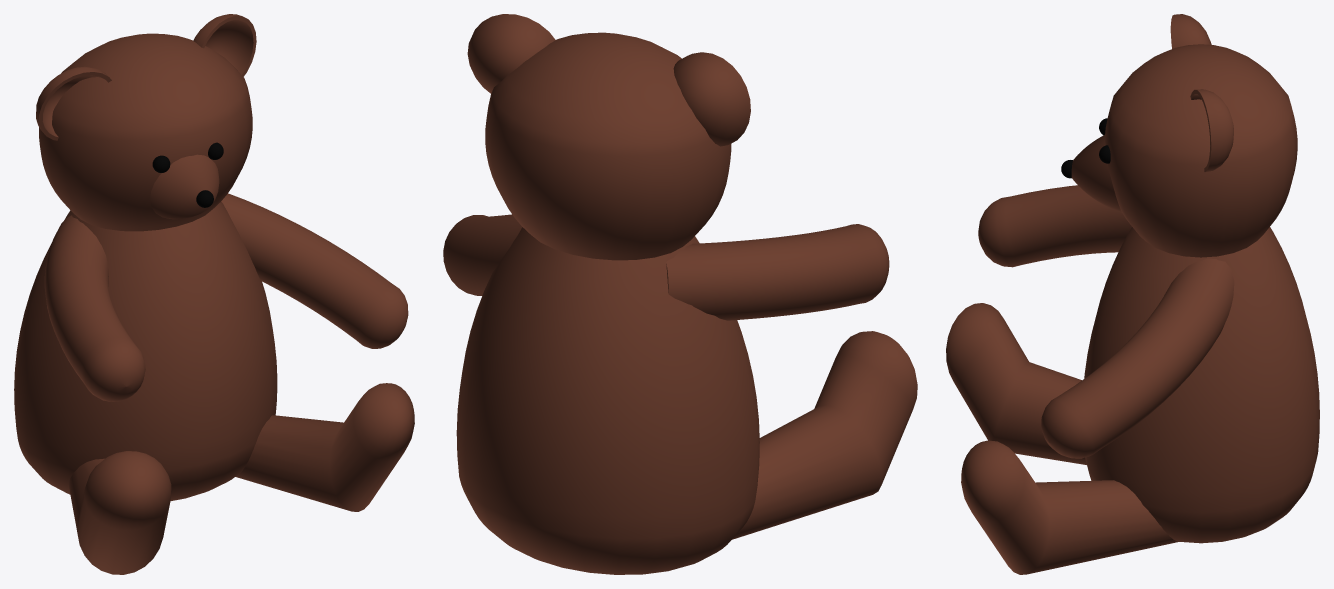
The model's file is ours+en+peluche2.obj.
The picture shows the model from 3 angles, left to right: view 1: azimuth 30°, elevation 25°; view 2: azimuth 150°, elevation 25°; view 3: azimuth 270°, elevation 25°; orthographic projection. The views are drawn at different scales.
Parts seen in each view (by area): view 1: Mesh1 Group1 Grouper_12_1 Model, Mesh10 Group9 Grouper_12_1 Model, Mesh8 Group7 Grouper_12_1 Model, Mesh4 Group4 Grouper_12_1 Model, Mesh2 Group2 Grouper_12_1 Model, Mesh5 Group5 Grouper_12_1 Model, Mesh3 Group3 Grouper_12_1 Model, Mesh9 Group8 Grouper_12_1 Model; view 2: Mesh1 Group1 Grouper_12_1 Model, Mesh2 Group2 Grouper_12_1 Model, Mesh4 Group4 Grouper_12_1 Model, Mesh9 Group8 Grouper_12_1 Model, Mesh8 Group7 Grouper_12_1 Model, Mesh3 Group3 Grouper_12_1 Model; view 3: Mesh1 Group1 Grouper_12_1 Model, Mesh8 Group7 Grouper_12_1 Model, Mesh10 Group9 Grouper_12_1 Model, Mesh2 Group2 Grouper_12_1 Model, Mesh4 Group4 Grouper_12_1 Model, Mesh5 Group5 Grouper_12_1 Model, Mesh3 Group3 Grouper_12_1 Model, Mesh9 Group8 Grouper_12_1 Model.
Boxes of the visible parts, left/top/right/bottom form: Mesh1 Group1 Grouper_12_1 Model: left=14, top=33, right=277, bottom=501; Mesh10 Group9 Grouper_12_1 Model: left=235, top=383, right=414, bottom=511; Mesh8 Group7 Grouper_12_1 Model: left=221, top=193, right=408, bottom=348; Mesh4 Group4 Grouper_12_1 Model: left=44, top=215, right=145, bottom=401; Mesh2 Group2 Grouper_12_1 Model: left=68, top=451, right=171, bottom=574; Mesh5 Group5 Grouper_12_1 Model: left=150, top=154, right=219, bottom=219; Mesh3 Group3 Grouper_12_1 Model: left=193, top=14, right=256, bottom=76; Mesh9 Group8 Grouper_12_1 Model: left=36, top=66, right=111, bottom=140; Mesh1 Group1 Grouper_12_1 Model: left=456, top=32, right=759, bottom=574; Mesh2 Group2 Grouper_12_1 Model: left=732, top=331, right=917, bottom=539; Mesh4 Group4 Grouper_12_1 Model: left=666, top=224, right=889, bottom=320; Mesh9 Group8 Grouper_12_1 Model: left=673, top=52, right=750, bottom=146; Mesh8 Group7 Grouper_12_1 Model: left=443, top=214, right=522, bottom=295; Mesh3 Group3 Grouper_12_1 Model: left=467, top=14, right=555, bottom=93; Mesh1 Group1 Grouper_12_1 Model: left=1084, top=44, right=1319, bottom=543; Mesh8 Group7 Grouper_12_1 Model: left=1041, top=258, right=1234, bottom=458; Mesh10 Group9 Grouper_12_1 Model: left=961, top=440, right=1178, bottom=574; Mesh2 Group2 Grouper_12_1 Model: left=946, top=303, right=1086, bottom=464; Mesh4 Group4 Grouper_12_1 Model: left=978, top=185, right=1131, bottom=267; Mesh5 Group5 Grouper_12_1 Model: left=1071, top=135, right=1121, bottom=212; Mesh3 Group3 Grouper_12_1 Model: left=1190, top=89, right=1233, bottom=171; Mesh9 Group8 Grouper_12_1 Model: left=1170, top=14, right=1211, bottom=48.
Bounding box in the file's own units: 10.95 × 12.7 × 9.45.
